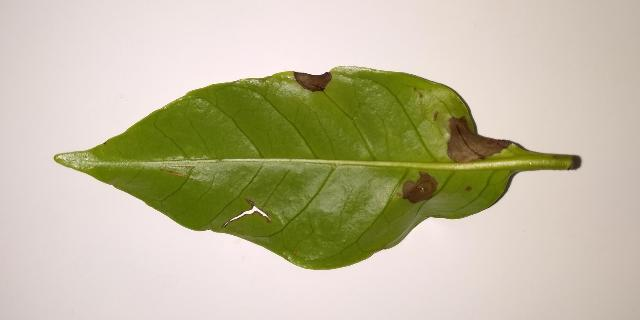rust: (448, 118, 511, 162), (222, 199, 271, 228), (402, 172, 437, 203), (292, 72, 331, 91)
